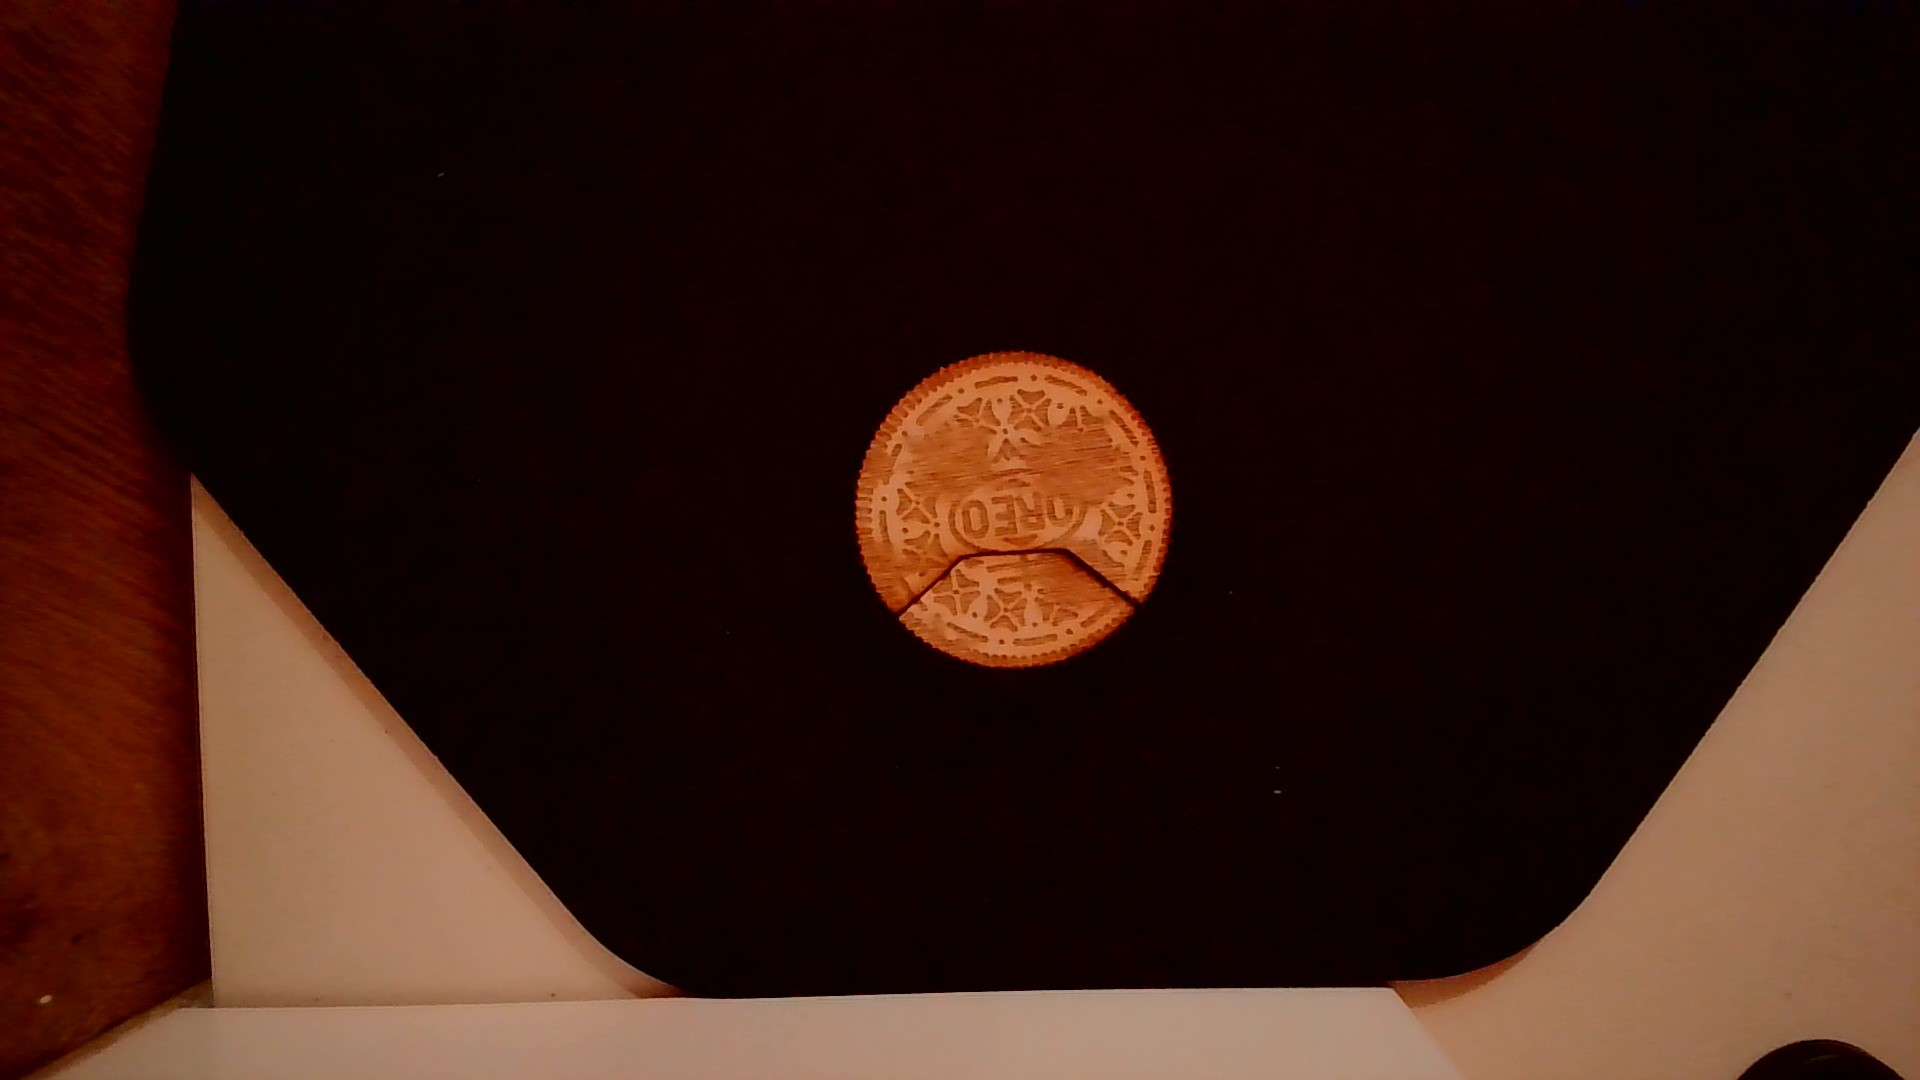Effacé: (1034, 421, 1130, 493), (903, 425, 989, 487), (1033, 558, 1085, 608)
Fissure: (876, 531, 1153, 636)
Oréo: (843, 348, 1183, 673)
